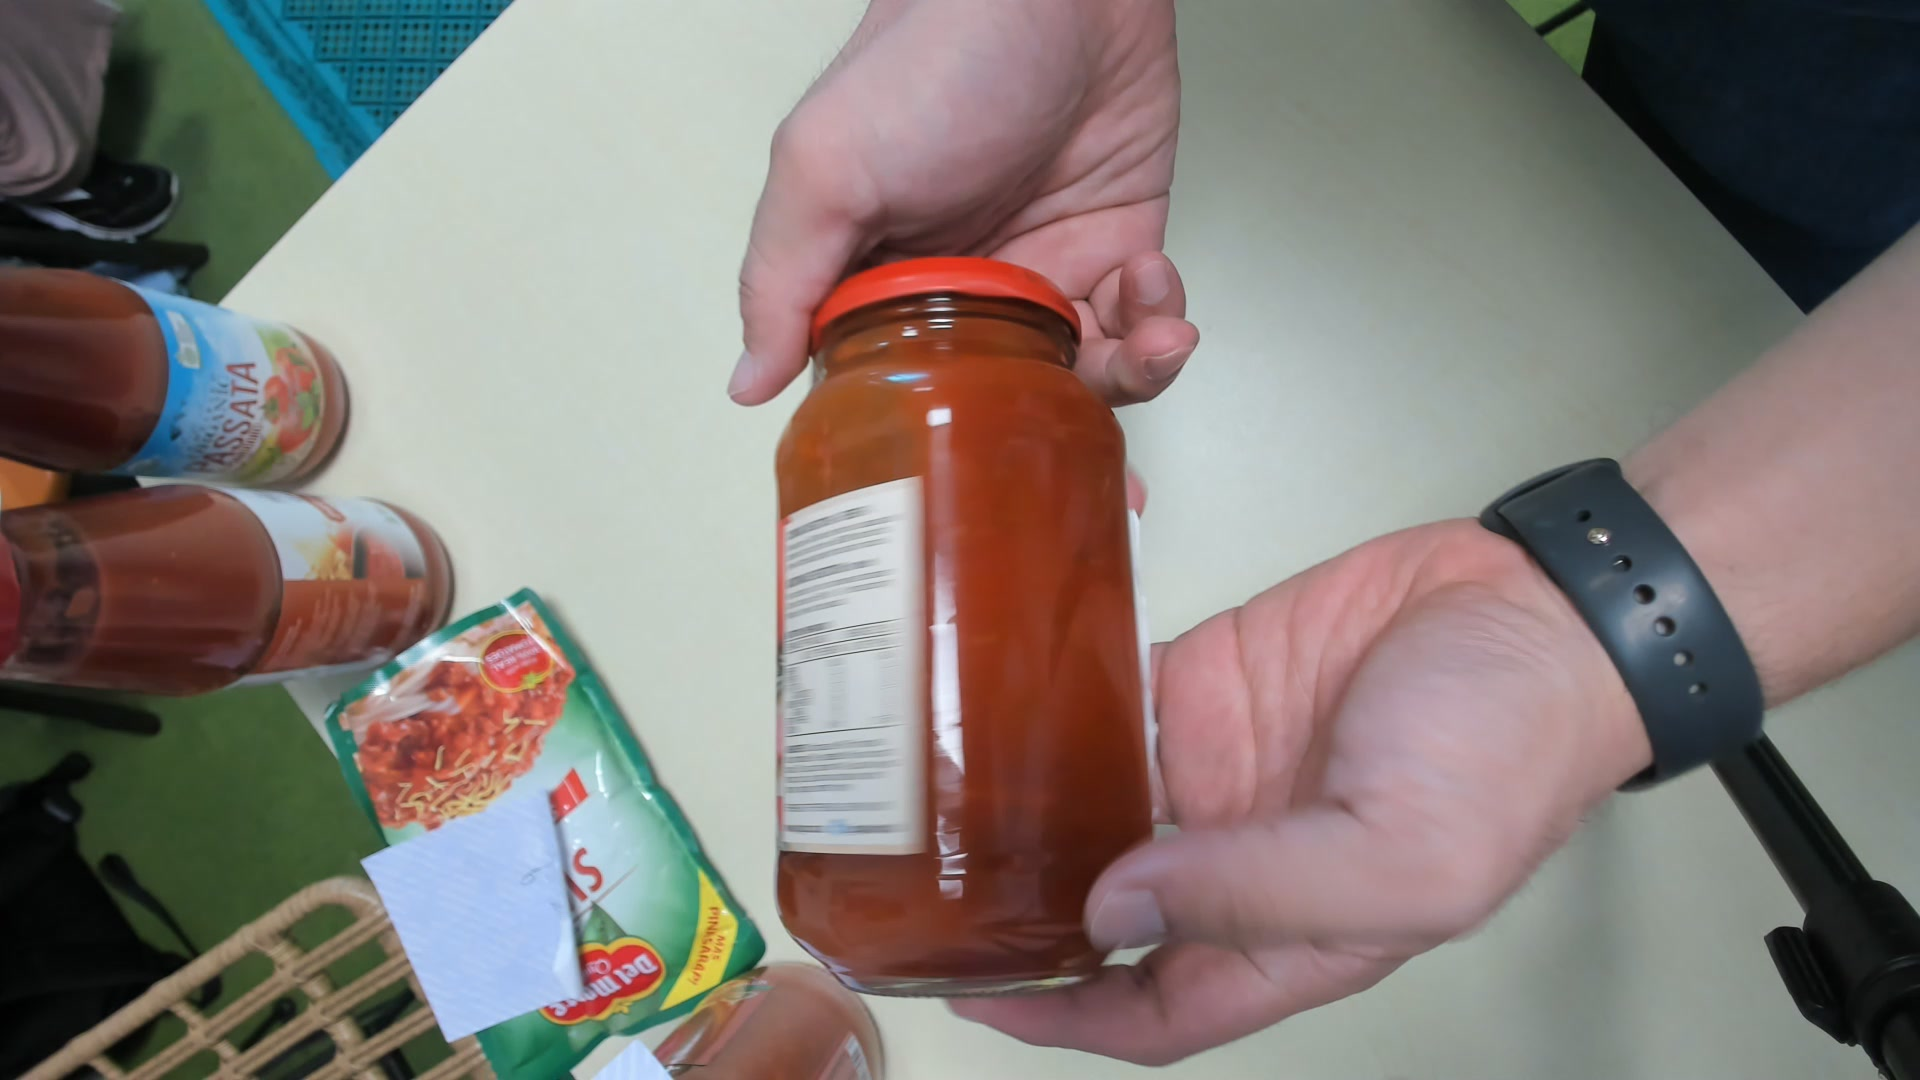PastaSauce_500-599g_Halal_NonHealthy: (760, 253, 1149, 992)
